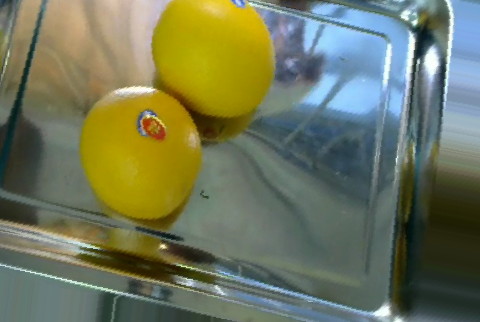Orange: (79, 85, 200, 218), (151, 1, 276, 116)
